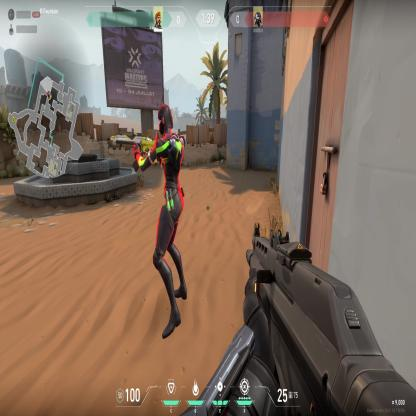enemy: (132, 102, 189, 342)
